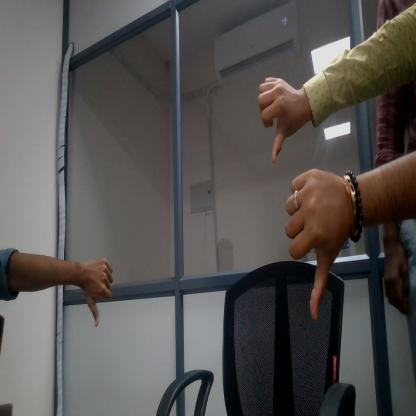Thumbs Down: (285, 172, 346, 325), (256, 67, 299, 166), (82, 255, 115, 335)
